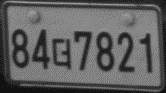1: (138, 32, 153, 73)
2: (116, 30, 136, 72)
4: (30, 28, 50, 70)
7: (73, 30, 92, 70)
8: (95, 30, 114, 71), (10, 28, 29, 68)
더: (51, 37, 71, 70)
